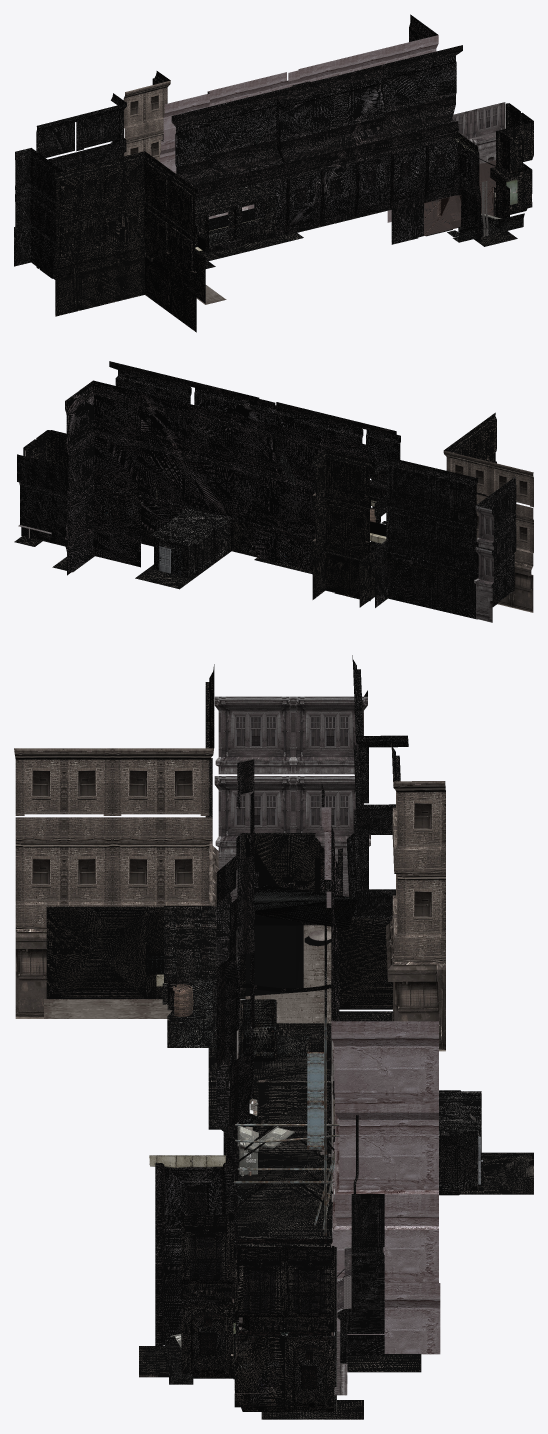
The model's file is callejon.fbx.
3 views of the same model, one above another, from view 1: azimuth 30°, elevation 25°; view 2: azimuth 150°, elevation 25°; view 3: azimuth 270°, elevation 25° (orthographic). The views are drawn at different scales.
Parts seen in each view (by area): view 1: Material2, Material3.007, Material3.024, Material3.008, Material3.006, Material3.018, Material3.003, Material3.021, Material3.029, Material3.004, Material3.025, Material3.010 (+1 smaller); view 2: Material2, Material3.008, Material3.006, Material3.007, Material3.024, Material3.015, Material3.005, Material3.023, Material3.017, Material3.029, Material3.016; view 3: Material2, Material3.007, Material3.008, Material3.006, Material3.029, Material3.016, Material3.026, Material3.027, Material3.025, Material3.024, Material3.005, Material3.010 (+6 smaller).
Boxes of the visible parts, x1,y1,x2,y2 form: Material2: (14, 14, 533, 332); Material3.007: (53, 72, 199, 330); Material3.024: (172, 45, 462, 197); Material3.008: (160, 16, 438, 222); Material3.006: (14, 94, 505, 278); Material3.018: (204, 139, 459, 254); Material3.003: (36, 160, 495, 276); Material3.021: (195, 183, 276, 246); Material3.029: (196, 198, 515, 304); Material3.004: (450, 158, 523, 241); Material3.025: (500, 103, 533, 170); Material3.010: (458, 145, 481, 242); Material2: (14, 361, 533, 619); Material3.008: (65, 382, 368, 574); Material3.006: (17, 455, 516, 622); Material3.007: (309, 416, 533, 612); Material3.024: (110, 361, 400, 500); Material3.015: (93, 473, 319, 569); Material3.005: (24, 449, 253, 576); Material3.023: (153, 508, 228, 545); Material3.017: (159, 546, 180, 575); Material3.029: (15, 536, 344, 595); Material3.016: (230, 524, 477, 605); Material2: (46, 655, 533, 1419); Material3.007: (14, 672, 445, 1051); Material3.008: (321, 789, 440, 1354); Material3.006: (214, 663, 408, 1395); Material3.029: (44, 925, 533, 1419); Material3.016: (46, 833, 392, 1128); Material3.026: (181, 1213, 334, 1411); Material3.027: (234, 1017, 339, 1235); Material3.025: (184, 1215, 334, 1315); Material3.024: (216, 760, 258, 1162); Material3.005: (236, 882, 481, 1410); Material3.010: (155, 1163, 238, 1346).
Size of the model in its own units: 851 by 300 by 413.
Materials: 32 (32 with a texture image).
